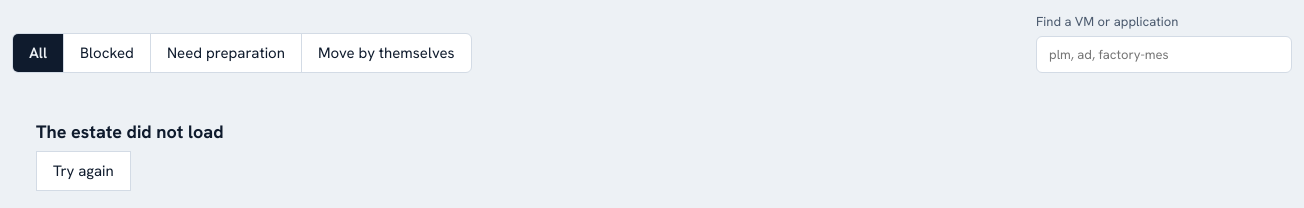
EstatePage › offers a retry when runway does not answer, and an empty state when nothing matches
This screenshot has width=1304, height=208.
Click the button "Try again": [83, 171] box [36,151,131,191]
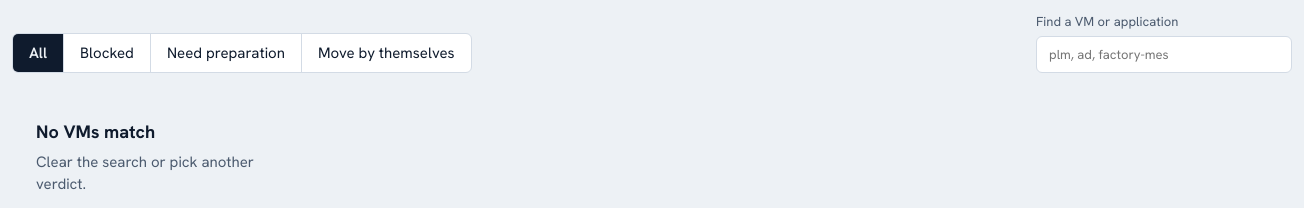
Check: the text "No VMs match" is shown, box [36,120,155,143]
